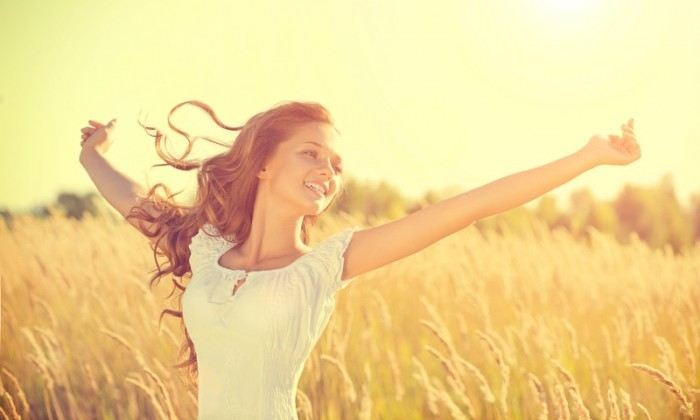happy: (288, 127, 347, 217)
